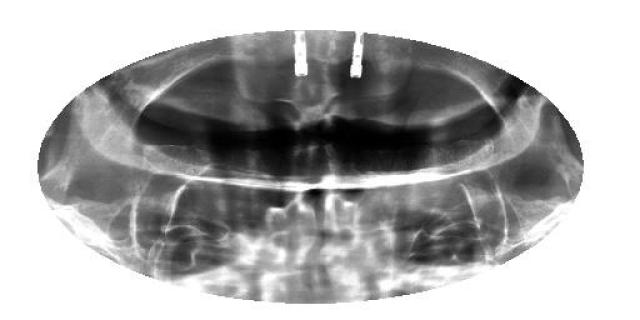Implant: (348, 32, 372, 80), (288, 30, 310, 79)
